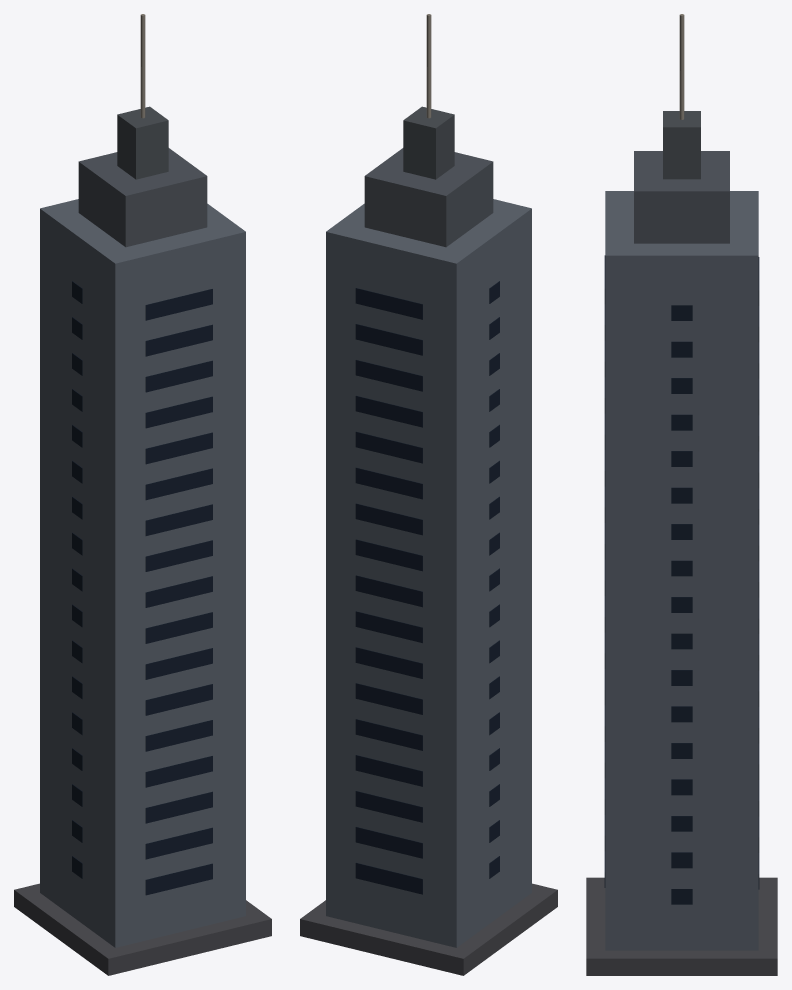
Rendered from midground_building.obj.
3 views of the same model, side by side, from view 1: azimuth 30°, elevation 25°; view 2: azimuth 150°, elevation 25°; view 3: azimuth 270°, elevation 25° (orthographic).
Visible parts, largest first — view 1: box_0, box_273, box_276, box_274, cyl_275; view 2: box_0, box_273, box_276, box_274, cyl_275; view 3: box_0, box_276, box_273, box_274, cyl_275.
Boxes of the visible parts, left/top/right/bottom form: box_0: left=40, top=199, right=245, bottom=947; box_273: left=78, top=148, right=207, bottom=247; box_276: left=14, top=883, right=271, bottom=975; box_274: left=117, top=106, right=168, bottom=179; cyl_275: left=140, top=14, right=145, bottom=118; box_0: left=326, top=199, right=531, bottom=947; box_273: left=364, top=148, right=493, bottom=247; box_276: left=300, top=883, right=557, bottom=975; box_274: left=403, top=106, right=454, bottom=179; cyl_275: left=426, top=14, right=431, bottom=118; box_0: left=605, top=191, right=758, bottom=950; box_276: left=586, top=877, right=777, bottom=975; box_273: left=634, top=151, right=729, bottom=243; box_274: left=663, top=111, right=700, bottom=179; cyl_275: left=679, top=14, right=684, bottom=119.
Bounding box in the file's own units: 10 × 53 × 10.
